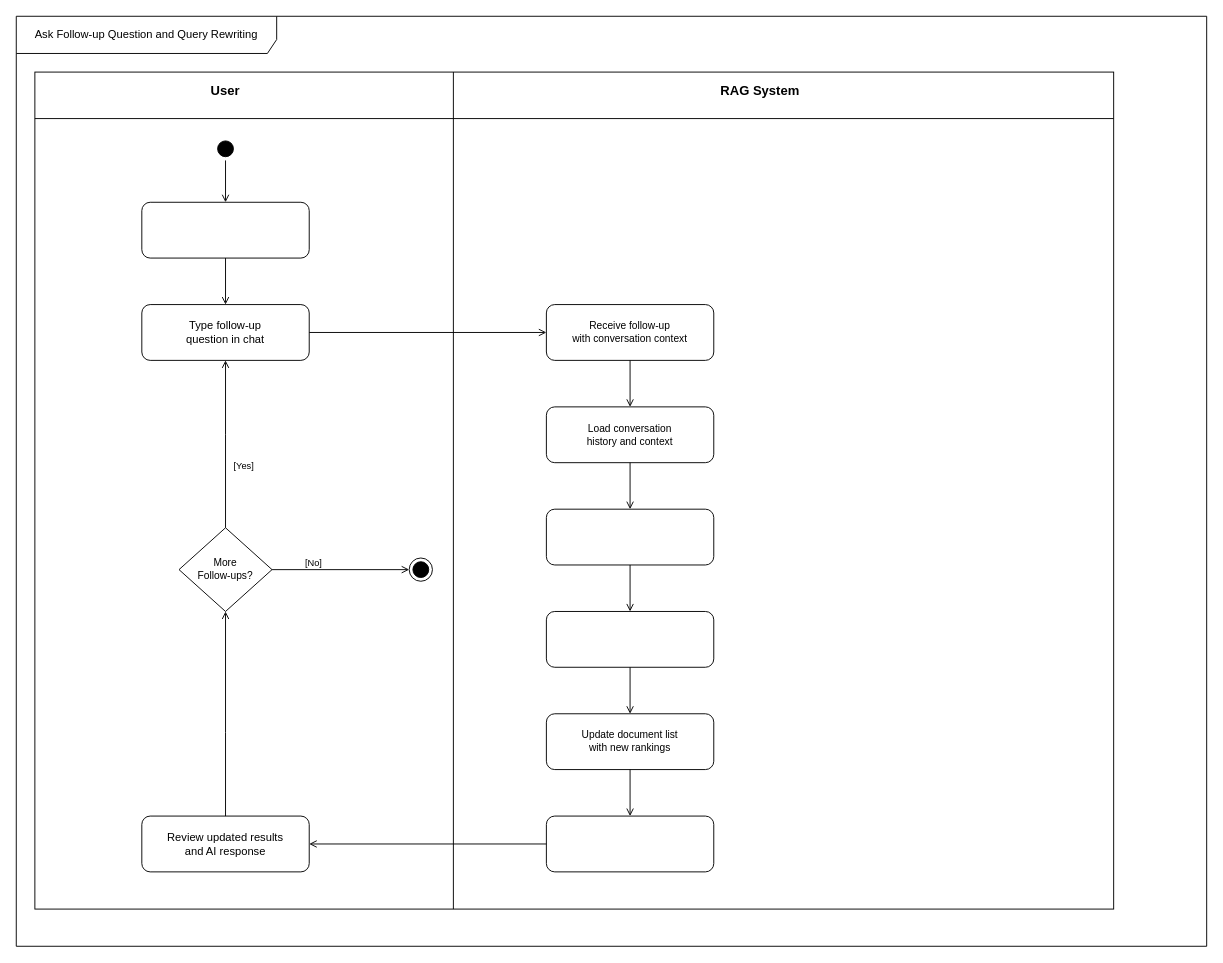
Image size: 1223x963. Some labels were removed from this diagram. Each missing label, with the centre of its shape:
"Generate new AI response with context" belongs at (629,843).
"Review initial search results and AI response" belongs at (225,229).
"Rewrite follow-up into standalone search query" belongs at (629,536).
"Trigger new retrieval with rewritten query" belongs at (629,639).
